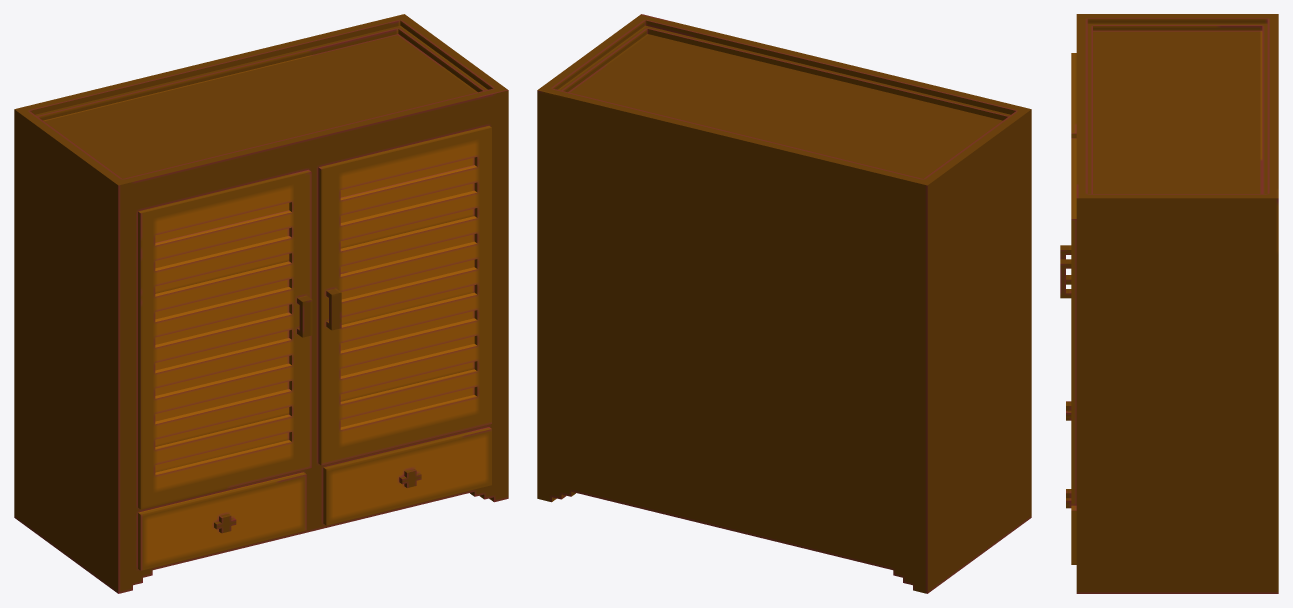
The model's file is Wardrobe_6.obj.
The picture shows the model from 3 angles, left to right: view 1: azimuth 30°, elevation 25°; view 2: azimuth 150°, elevation 25°; view 3: azimuth 270°, elevation 25°; orthographic projection. The views are drawn at different scales.
Visible parts, largest first — view 1: Wardrobe_6; view 2: Wardrobe_6; view 3: Wardrobe_6.
Boxes of the visible parts, <box> form: Wardrobe_6: <box>14,14,508,593</box>; Wardrobe_6: <box>537,14,1031,593</box>; Wardrobe_6: <box>1060,14,1278,593</box>.
Size of the model in its own units: 8 by 8 by 4.
Materials: 1 (1 with a texture image).
